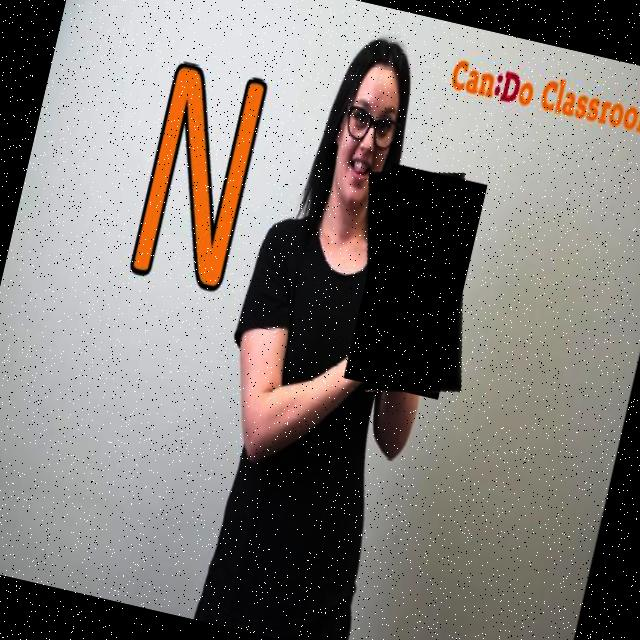N: (333, 160, 499, 408)
